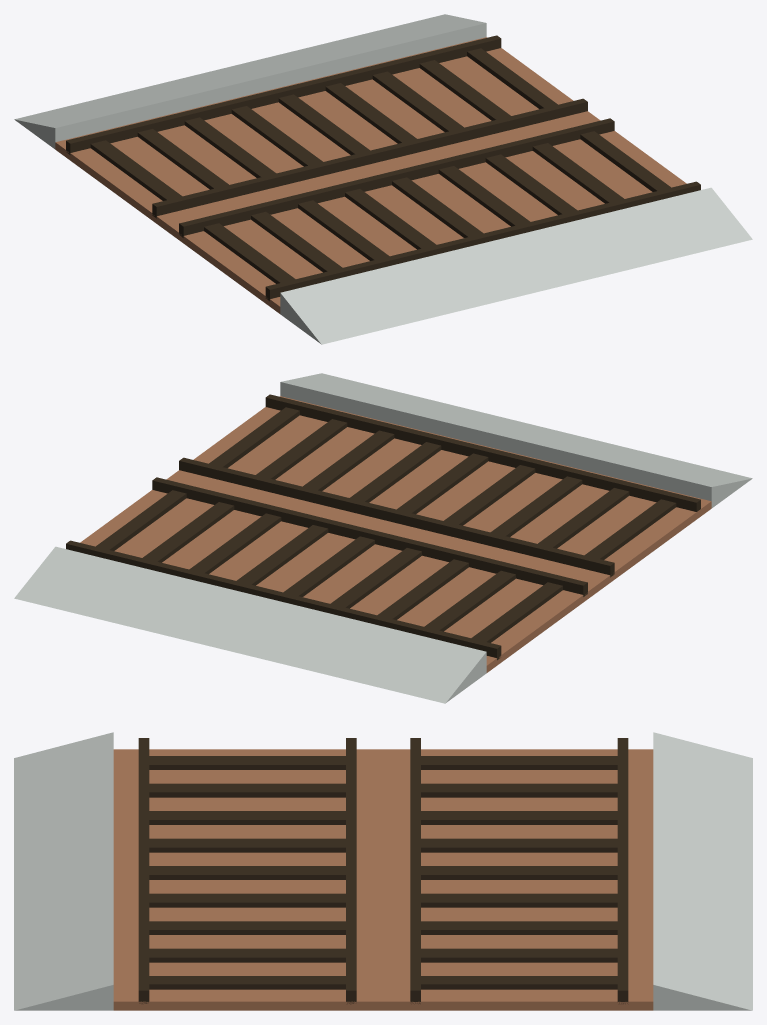
File: RailTrackTile_4.fbx
The picture shows the model from 3 angles, top to bottom: view 1: azimuth 30°, elevation 25°; view 2: azimuth 150°, elevation 25°; view 3: azimuth 270°, elevation 25°; orthographic projection. The views are drawn at different scales.
Visible parts, largest first — view 1: RailTrackTile_4; view 2: RailTrackTile_4; view 3: RailTrackTile_4.
Part boxes in pixels (x1,y1,x2,y2): RailTrackTile_4: [14, 14, 752, 344]; RailTrackTile_4: [14, 373, 752, 703]; RailTrackTile_4: [14, 732, 752, 1010].
Bounding box in the file's own units: 600 × 28.78 × 742.
